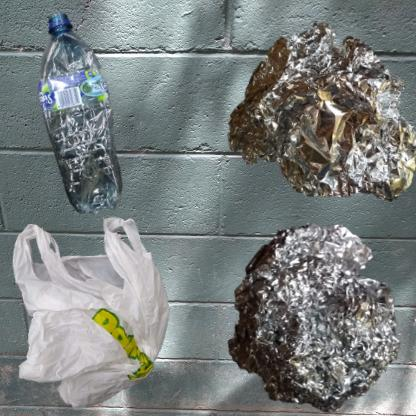aluminio: (213, 10, 416, 224), (213, 213, 411, 416)
bolsa: (10, 213, 176, 416)
botella: (10, 10, 171, 243)
